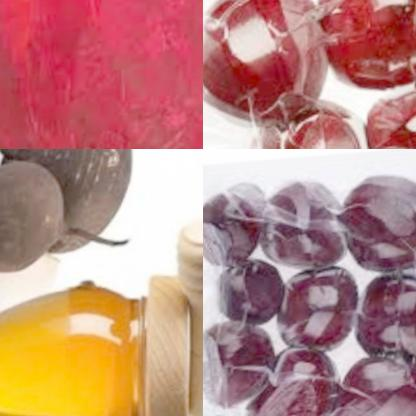beet: (0, 0, 203, 149), (203, 0, 338, 130), (313, 0, 416, 110), (254, 179, 347, 288), (334, 169, 416, 276), (271, 259, 355, 360), (339, 265, 416, 373), (241, 339, 344, 416), (237, 94, 375, 149), (203, 314, 277, 416), (333, 349, 416, 416), (203, 176, 263, 268), (210, 261, 285, 330)
redka: (0, 149, 134, 262), (0, 156, 78, 280)
